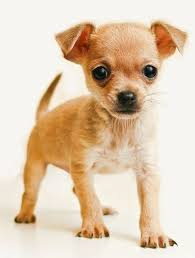chihuahua: (15, 19, 188, 249)
